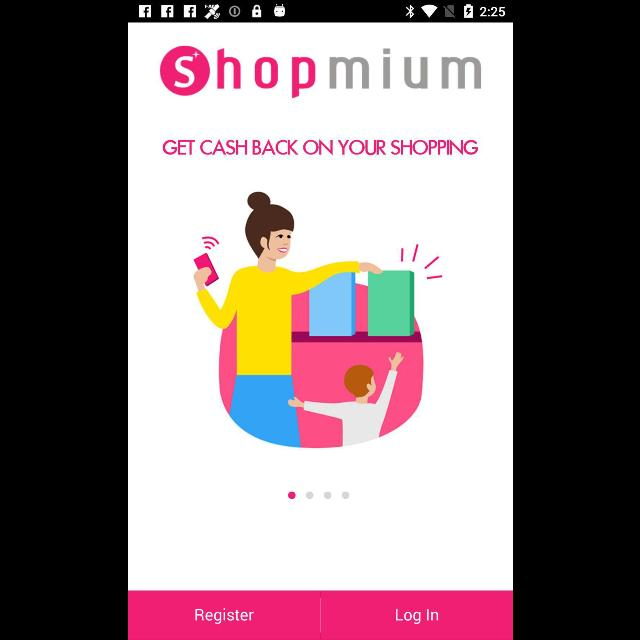image: (192, 192, 442, 448), (159, 46, 481, 98)
pageindicator: (287, 491, 349, 499)
text: (162, 140, 478, 156)
textbutton: (127, 590, 319, 640), (320, 590, 512, 640)
uppertaskbar: (128, 1, 512, 23)
